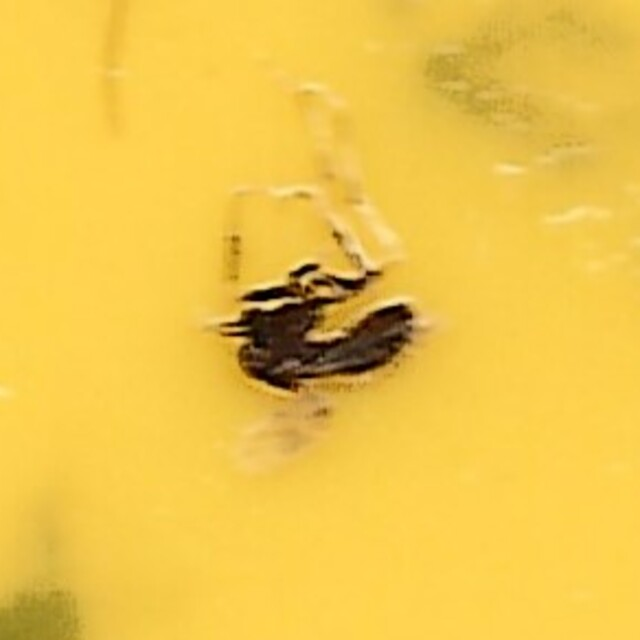Brachycera: (219, 234, 421, 406)
